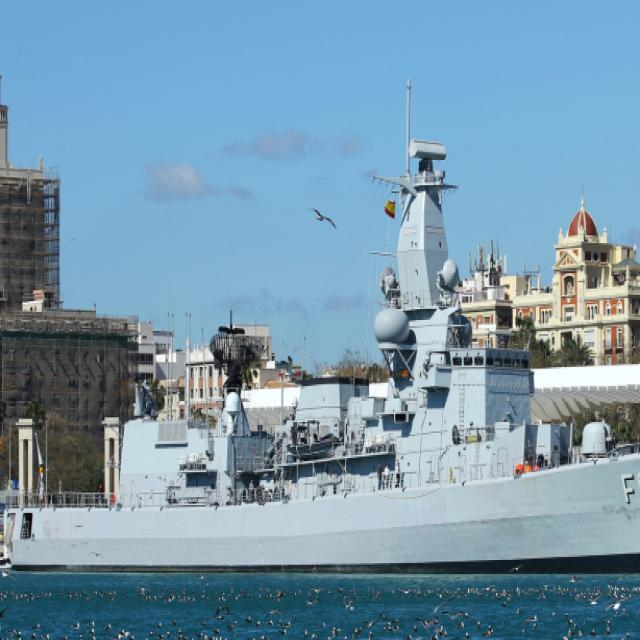Fragata: (3, 133, 640, 575)
